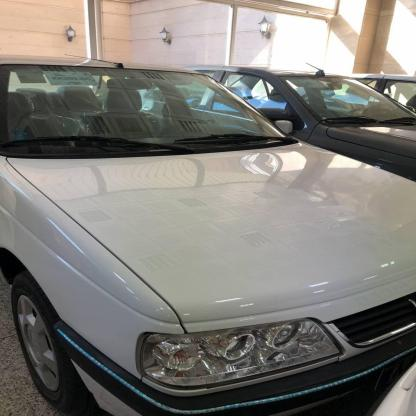Car: (0, 62, 416, 416), (183, 35, 416, 190)
